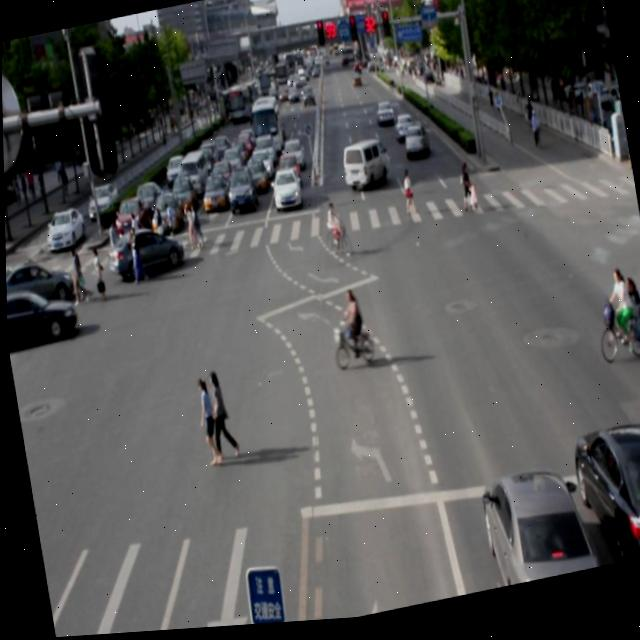car: (471, 470, 590, 597), (566, 422, 640, 578), (105, 220, 187, 287)
